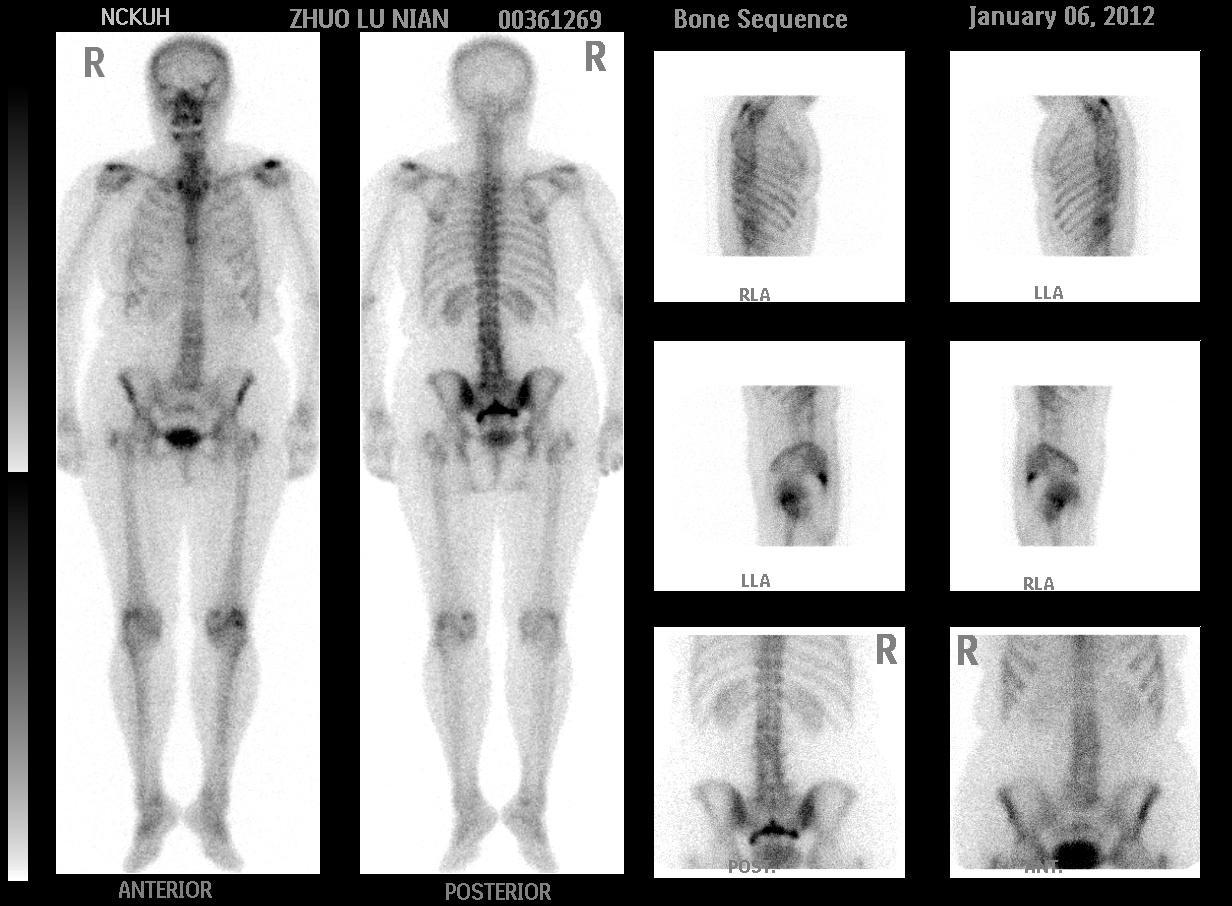person: (54, 32, 625, 876)
